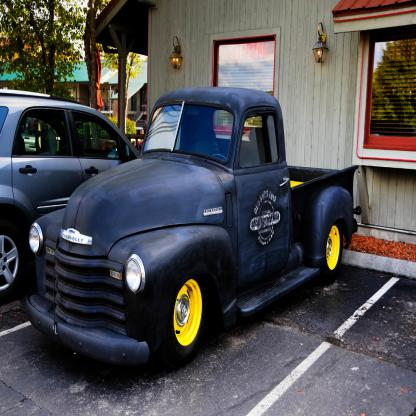Car: (0, 88, 140, 304)
Truck: (26, 86, 362, 368)
